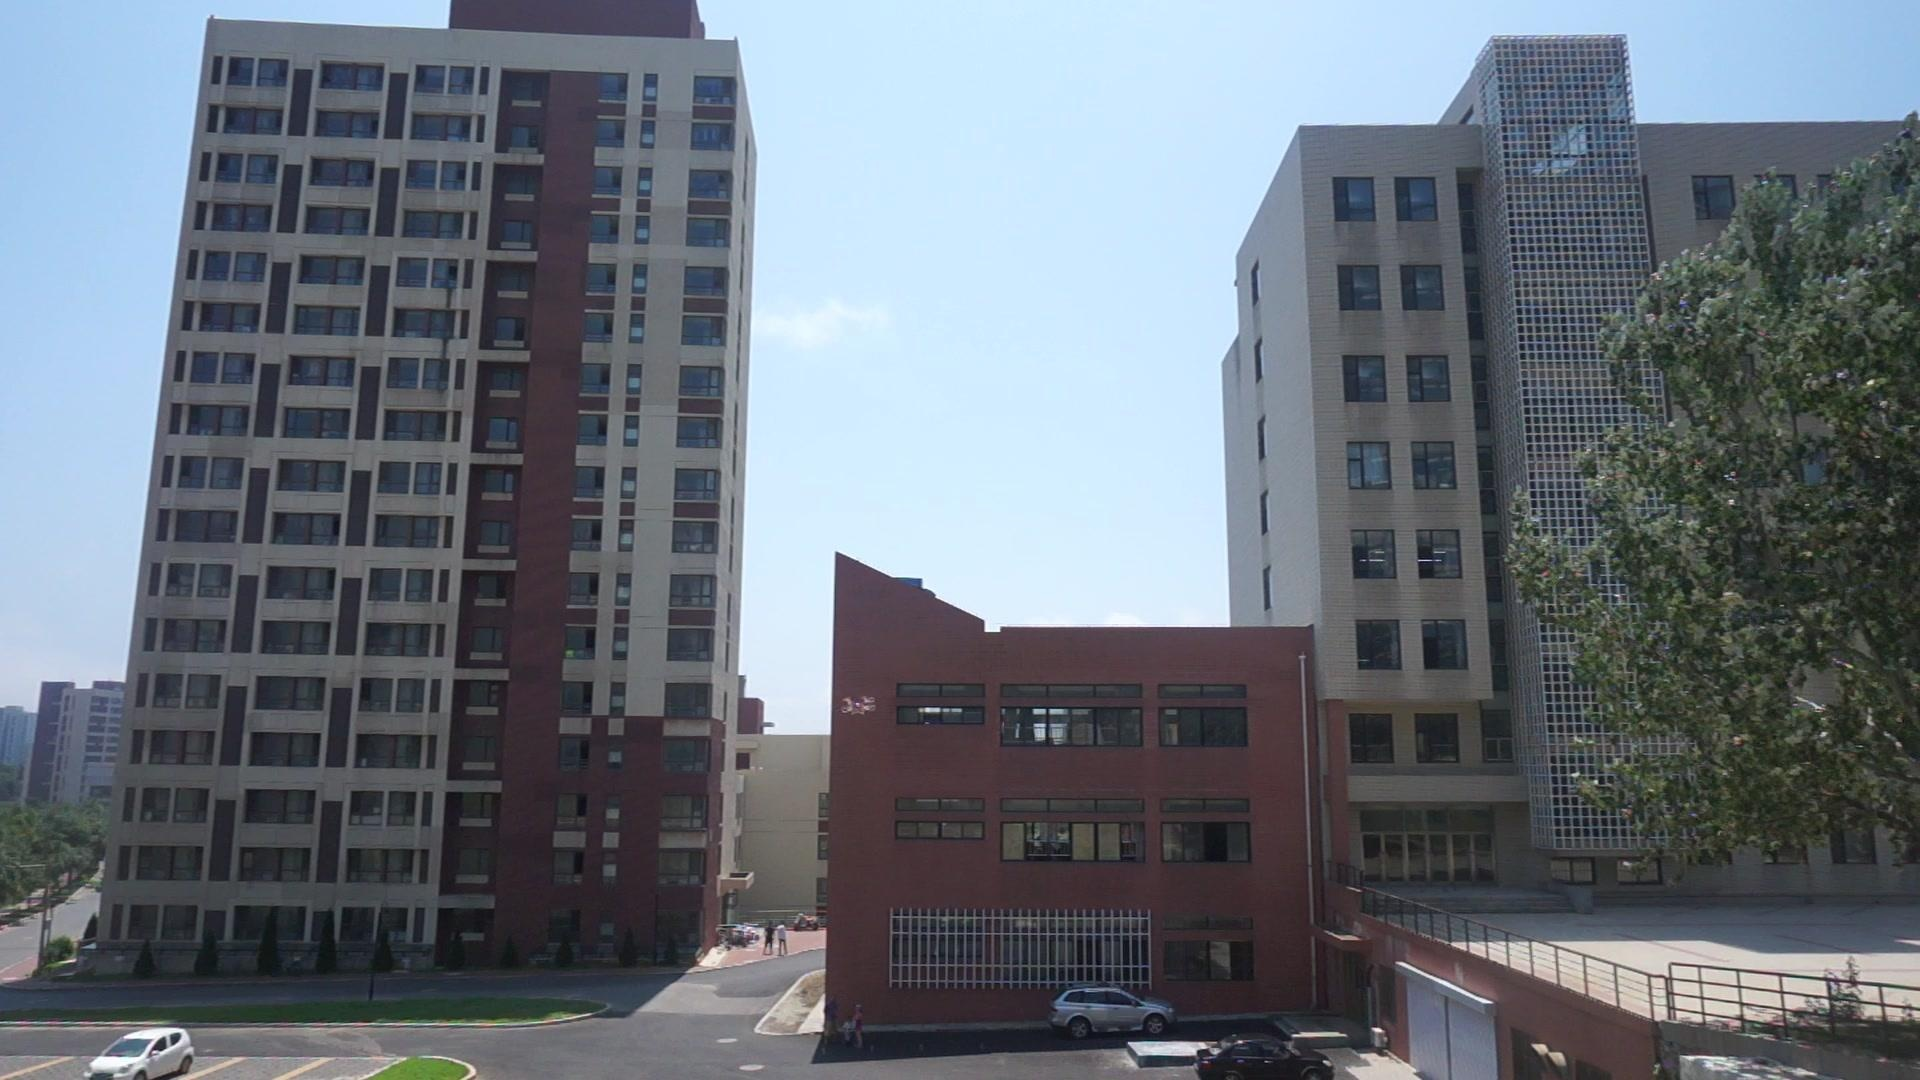UAV: (843, 696, 877, 715)
